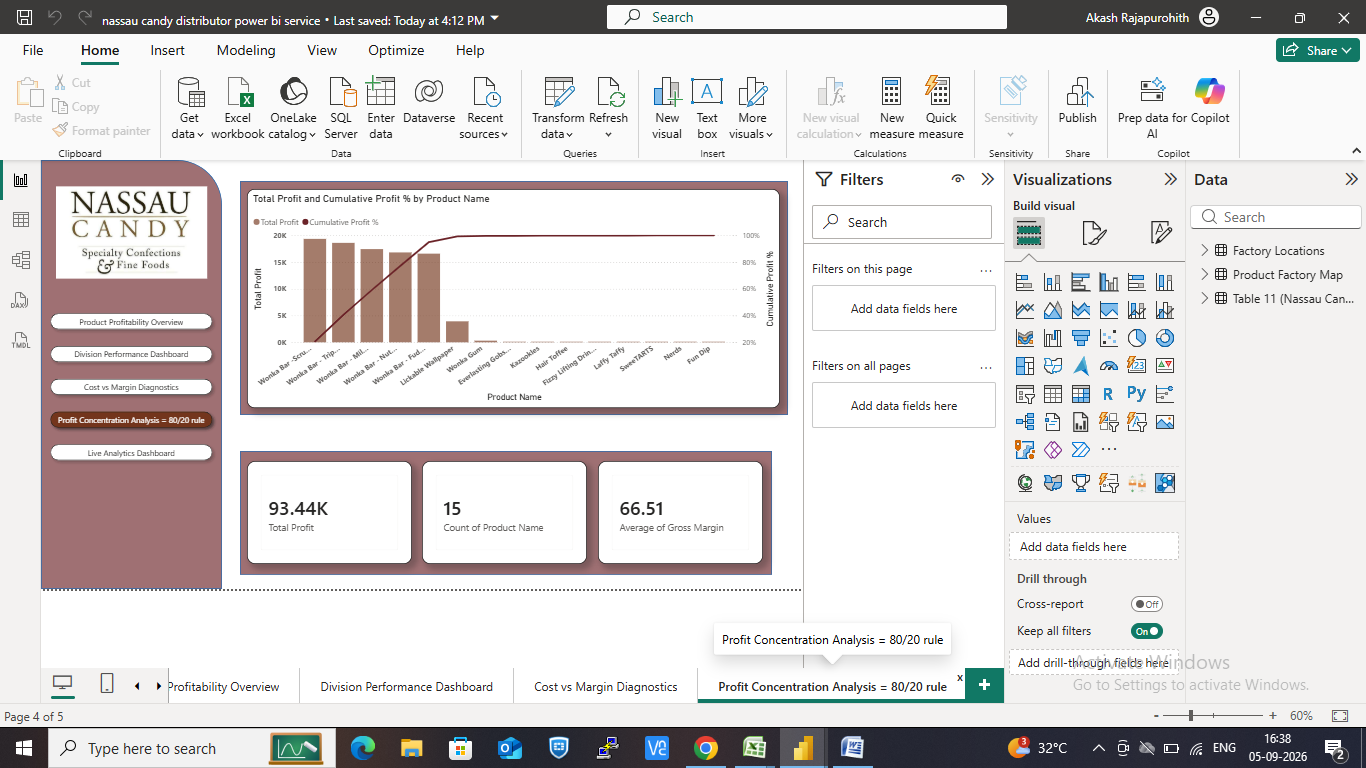

Layout of this report page (visuals, bound fields, positions):
{"tool":"powerbi","page":{"name":"Profit Concentration Analysis = 80/20 rule","canvas":[1280,720],"ordinal":3},"visuals":[{"type":"shape","box":[334.3,35.3,920.5,393.1],"z":0},{"type":"lineClusteredColumnComboChart","fields":{"Category":["Table 11 (Nassau Candy Distributor 1).Product Name"],"Y":["Table 11 (Nassau Candy Distributor 1).Total Profit"],"Y2":["Table 11 (Nassau Candy Distributor 1).Cumulative Profit %"]},"box":[346,48.7,895.3,367.9],"z":1000},{"type":"shape","box":[334.3,488.8,893.6,208.3],"z":2000},{"type":"cardVisual","fields":{"Data":["Count(Table 11 (Nassau Candy Distributor 1).Product Name)"]},"box":[640,505.6,277.2,173],"z":3000},{"type":"cardVisual","fields":{"Data":["Table 11 (Nassau Candy Distributor 1).Total Profit"]},"box":[346,505.6,277.2,173],"z":4000},{"type":"cardVisual","fields":{"Data":["Avg(Table 11 (Nassau Candy Distributor 1).Gross Margin)"]},"box":[935.6,505.6,277.2,173],"z":5000},{"type":"group","id":"g1","title":"Group 1","box":[0,0,304,720.6],"z":6000},{"type":"image","box":[25.2,35.3,253.6,173],"z":7000},{"type":"shape","box":[0,0,304,720.6],"z":7500,"group":"g1"},{"type":"pageNavigator","box":[6.7,248.6,290.6,265.4],"z":8000,"group":"g1"}]}

Visuals, with their boxes on the page's 1280x720 design canvas (x1, y1, x2, y2). These are canvas units, not pixel positions in the 1366x768 screenshot, which may show the page scaled, cropped or inside an application window:
shape: 334:35:1255:428
lineClusteredColumnComboChart - Table 11 (Nassau Candy Distributor 1).Product Name x Table 11 (Nassau Candy Distributor 1).Total Profit: 346:49:1241:417
shape: 334:489:1228:697
cardVisual - Count(Table 11 (Nassau Candy Distributor 1).Product Name): 640:506:917:679
cardVisual - Table 11 (Nassau Candy Distributor 1).Total Profit: 346:506:623:679
cardVisual - Avg(Table 11 (Nassau Candy Distributor 1).Gross Margin): 936:506:1213:679
"Group 1" group: 0:0:304:721
image: 25:35:279:208
shape: 0:0:304:721
pageNavigator: 7:249:297:514
